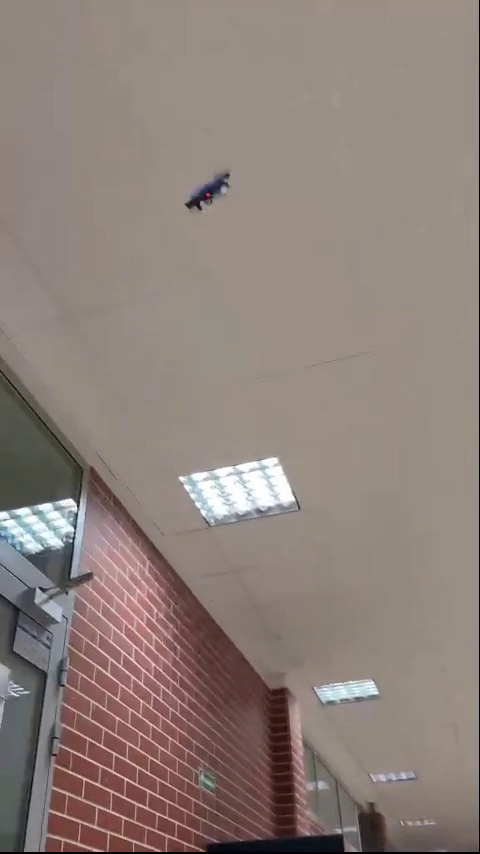drone: (182, 172, 240, 214)
